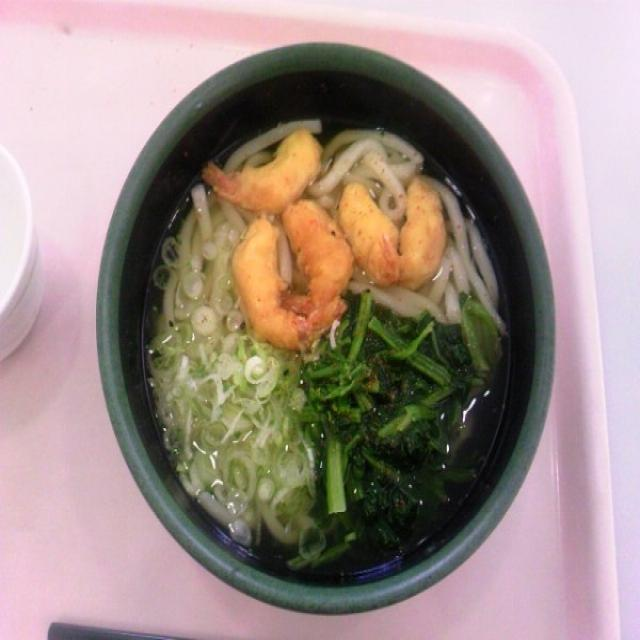面条主食: (94, 43, 556, 606)
